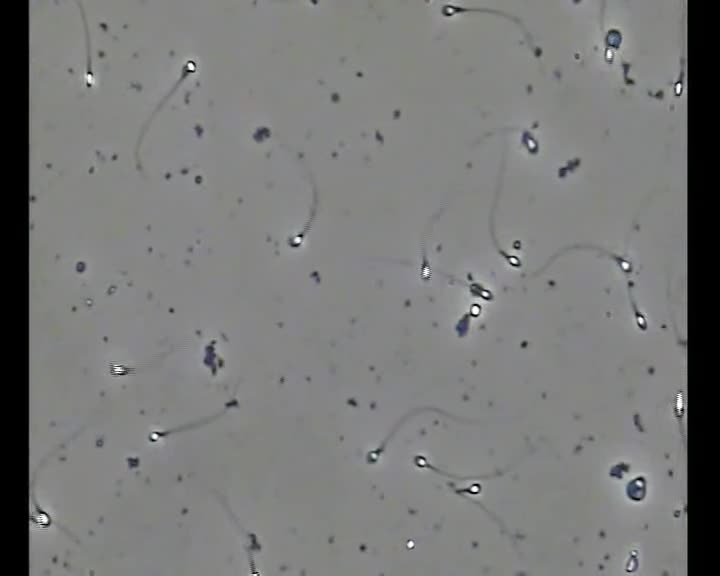spermhead: (625, 476, 646, 501), (521, 130, 538, 154), (469, 283, 493, 300), (31, 507, 51, 527), (624, 549, 639, 573), (455, 313, 470, 337), (605, 28, 622, 49), (673, 390, 684, 420), (441, 3, 466, 16), (181, 59, 197, 78), (109, 362, 132, 375), (616, 256, 632, 273), (366, 447, 382, 463), (148, 429, 166, 443), (248, 532, 261, 551), (635, 310, 647, 330), (504, 253, 521, 267), (288, 233, 304, 247), (83, 70, 96, 87), (464, 482, 481, 495), (421, 258, 431, 280), (414, 455, 428, 468), (469, 302, 481, 317), (604, 47, 615, 63), (673, 79, 683, 96), (407, 538, 415, 549), (249, 568, 260, 575)
